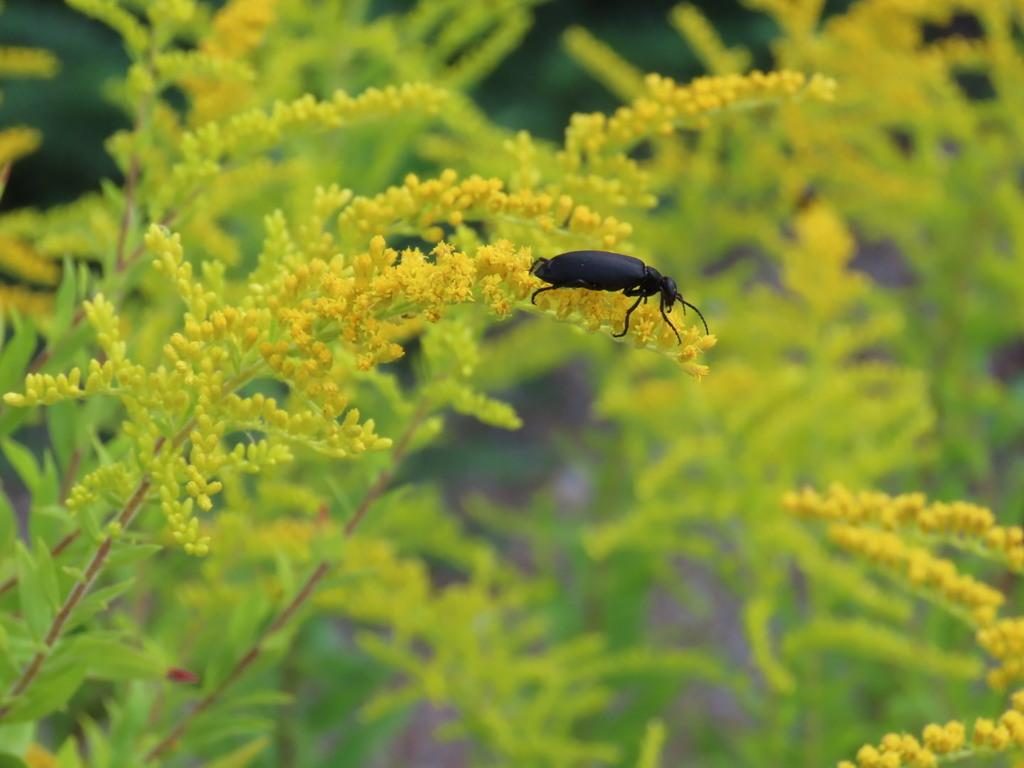blister_beetle: (510, 217, 732, 380)
